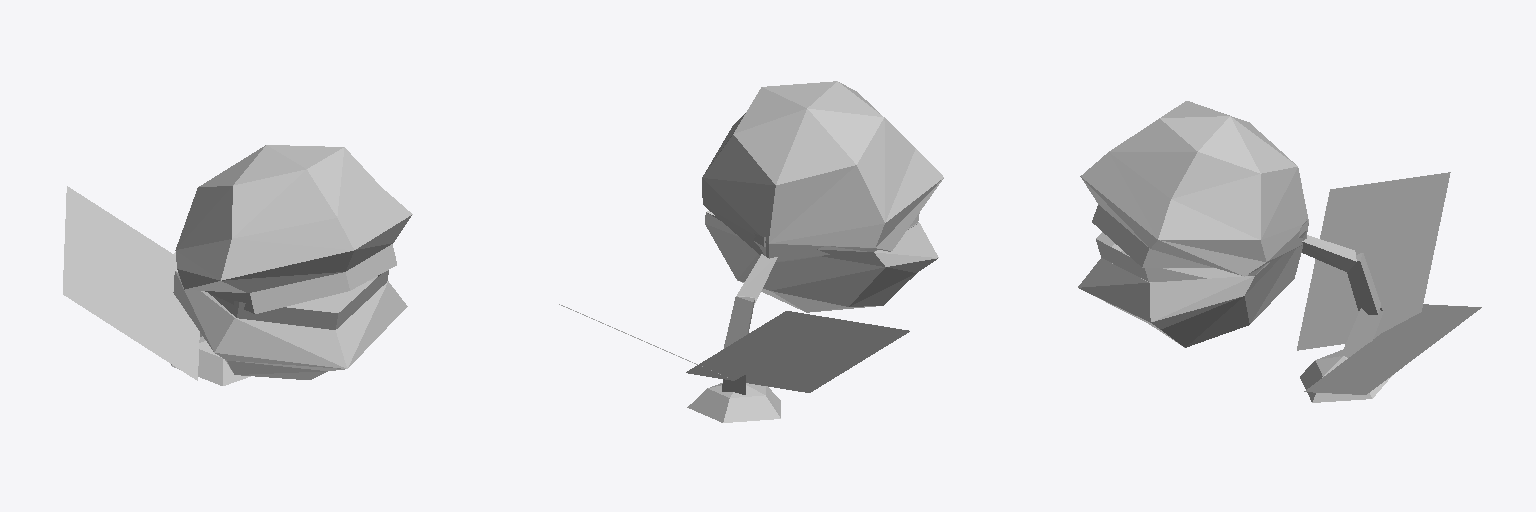
File: pirahna plant.obj
The picture shows the model from 3 angles: view 1: azimuth 30°, elevation 25°; view 2: azimuth 150°, elevation 25°; view 3: azimuth 270°, elevation 25°; orthographic projection.
Size of the model in its own units: 6.95 by 5.25 by 7.25.